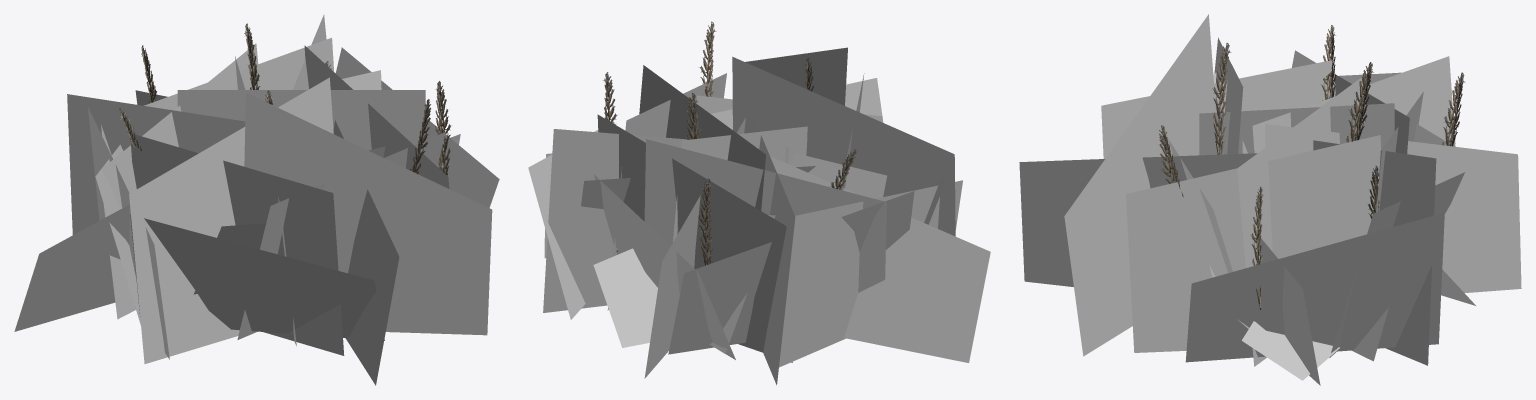
File: SM_Veg_Plant_Grass_03.FBX
The picture shows the model from 3 angles, left to right: view 1: azimuth 30°, elevation 25°; view 2: azimuth 150°, elevation 25°; view 3: azimuth 270°, elevation 25°; orthographic projection. The views are drawn at different scales.
Parts seen in each view (by area): view 1: SM_Veg_Plant_Grass_03; view 2: SM_Veg_Plant_Grass_03; view 3: SM_Veg_Plant_Grass_03.
Boxes of the visible parts, left/top/right/bottom form: SM_Veg_Plant_Grass_03: left=14, top=15, right=499, bottom=385; SM_Veg_Plant_Grass_03: left=528, top=21, right=990, bottom=385; SM_Veg_Plant_Grass_03: left=1019, top=14, right=1521, bottom=385.
Size of the model in its own units: 2.91 by 1.55 by 2.79.
